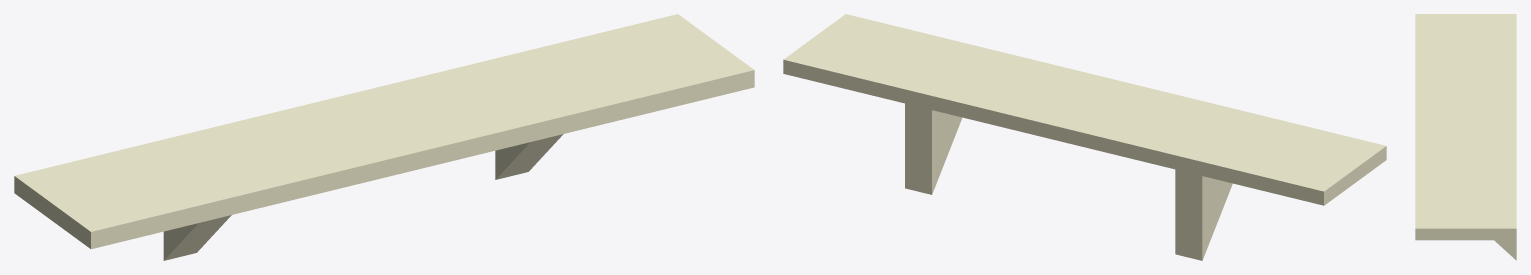
File: Shelf_Long.glb
3 renders of one model, left to right at view 1: azimuth 30°, elevation 25°; view 2: azimuth 150°, elevation 25°; view 3: azimuth 270°, elevation 25°, orthographic. The views are drawn at different scales.
Visible parts, largest first — view 1: Shelf Long; view 2: Shelf Long; view 3: Shelf Long.
Part boxes in pixels (bbox=[...]): Shelf Long: bbox=[14, 14, 754, 260]; Shelf Long: bbox=[783, 14, 1386, 260]; Shelf Long: bbox=[1415, 14, 1516, 260].
Size of the model in its own units: 1 by 0.175 by 0.2.
